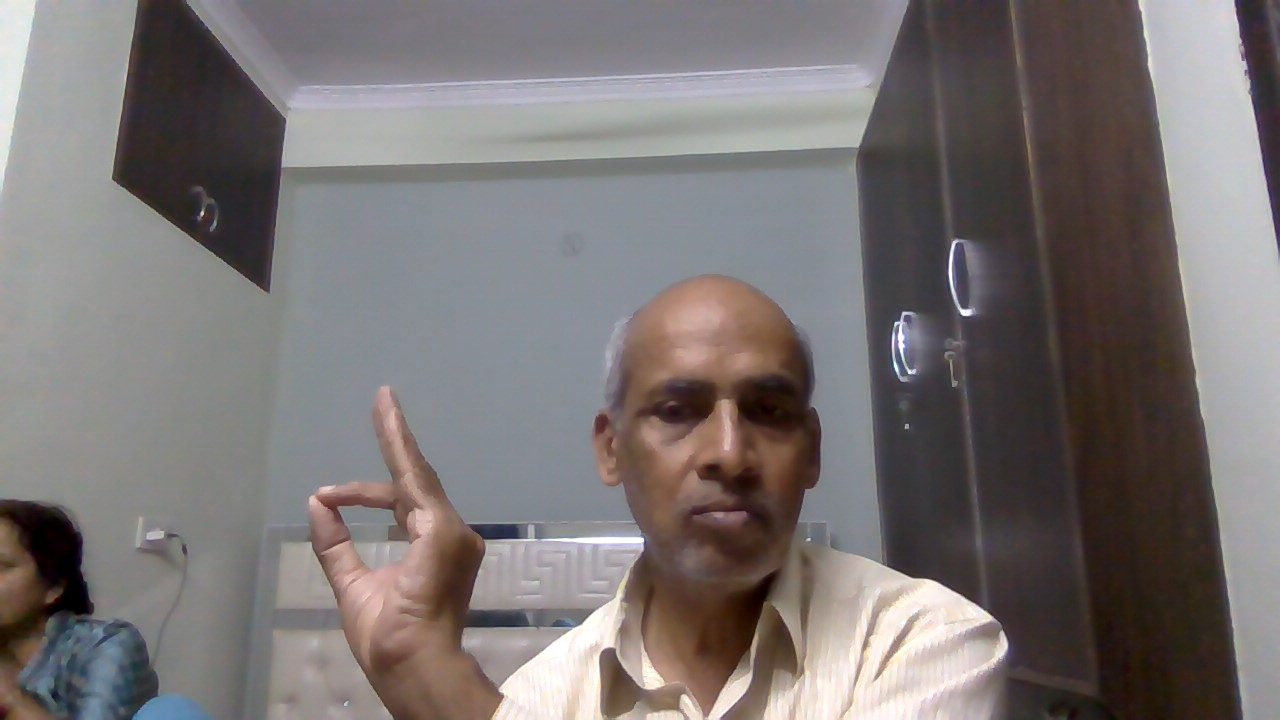Copy: (293, 368, 511, 673)
